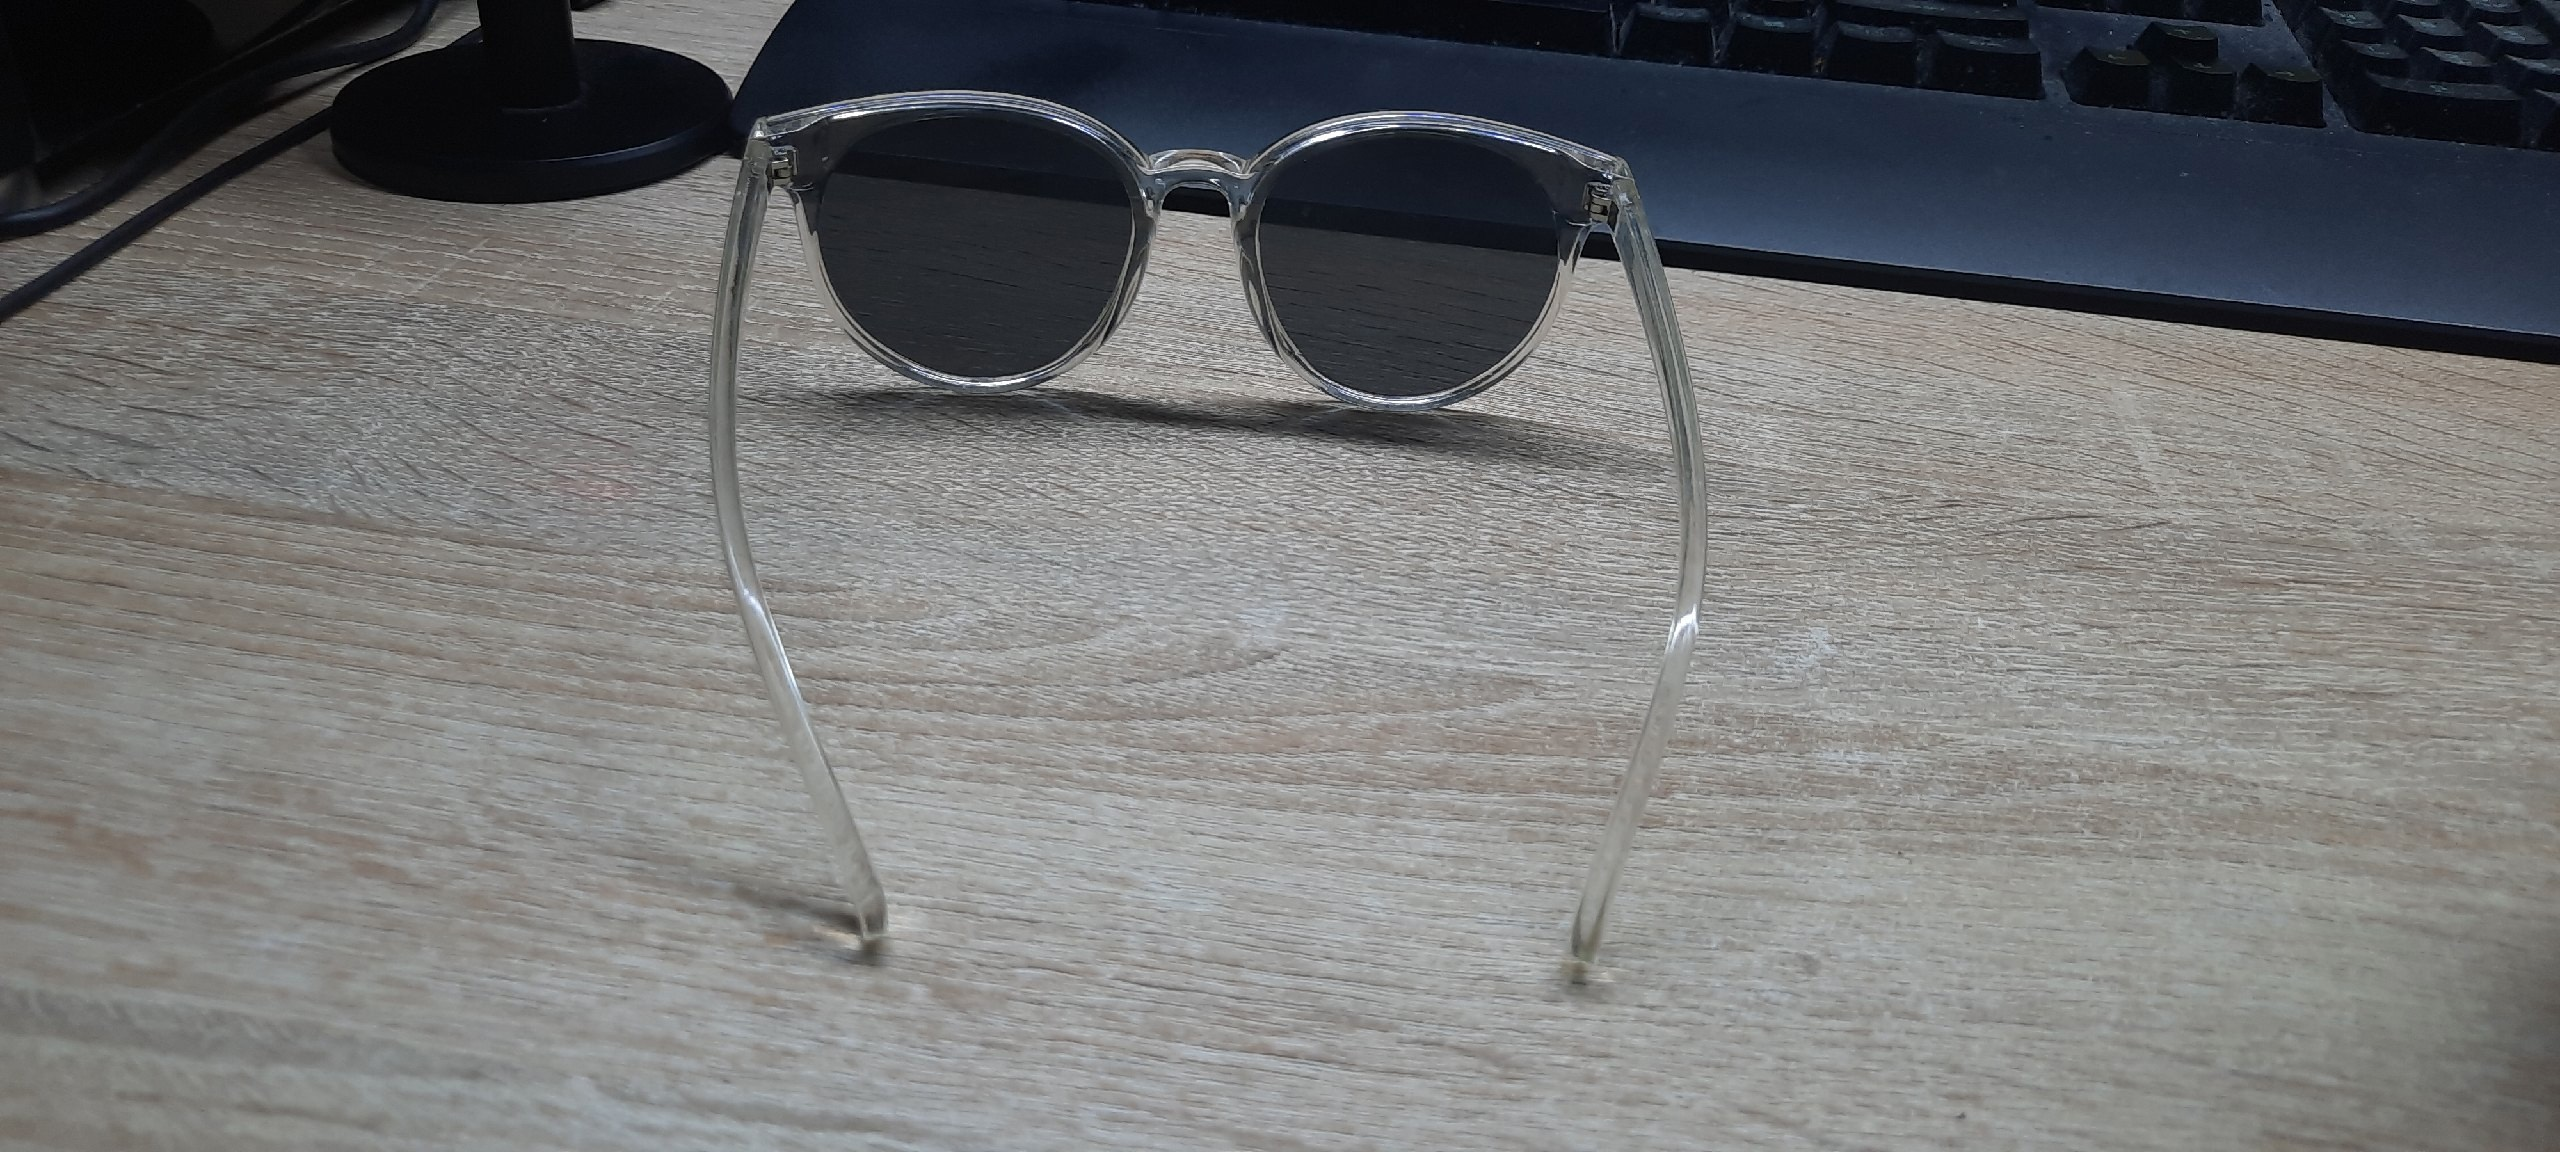glasses: (710, 91, 1706, 964)
